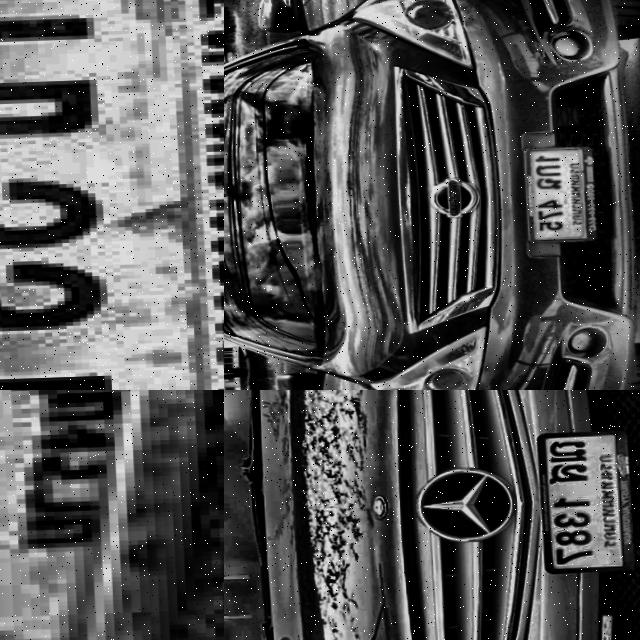license-plate: (0, 0, 224, 390), (0, 390, 224, 640), (532, 428, 638, 574), (515, 139, 599, 248)
